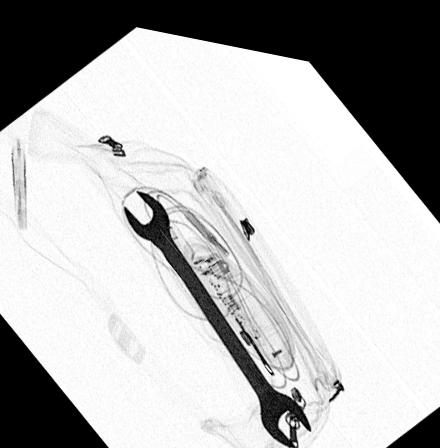Wrench: (124, 184, 310, 436)
